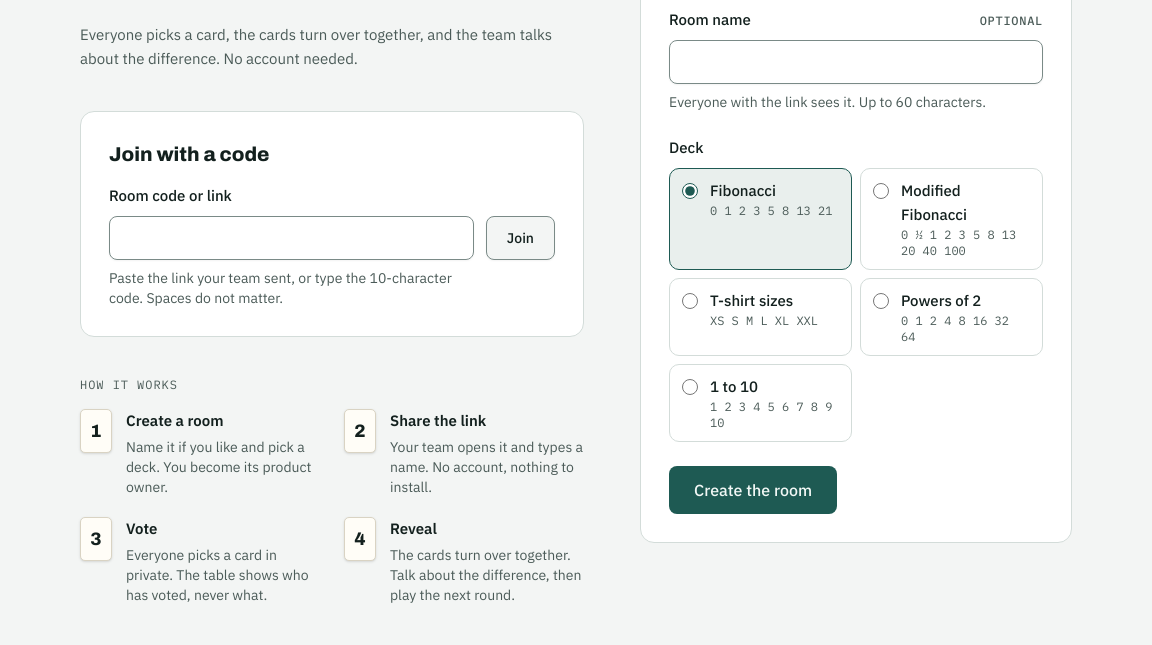
Test: app shell › explains a refused origin as a setup problem, not as a room setting
(page scrolled)
Step 1. Click the button "Create the room" → x=753, y=490, box 669,466 -> 837,514
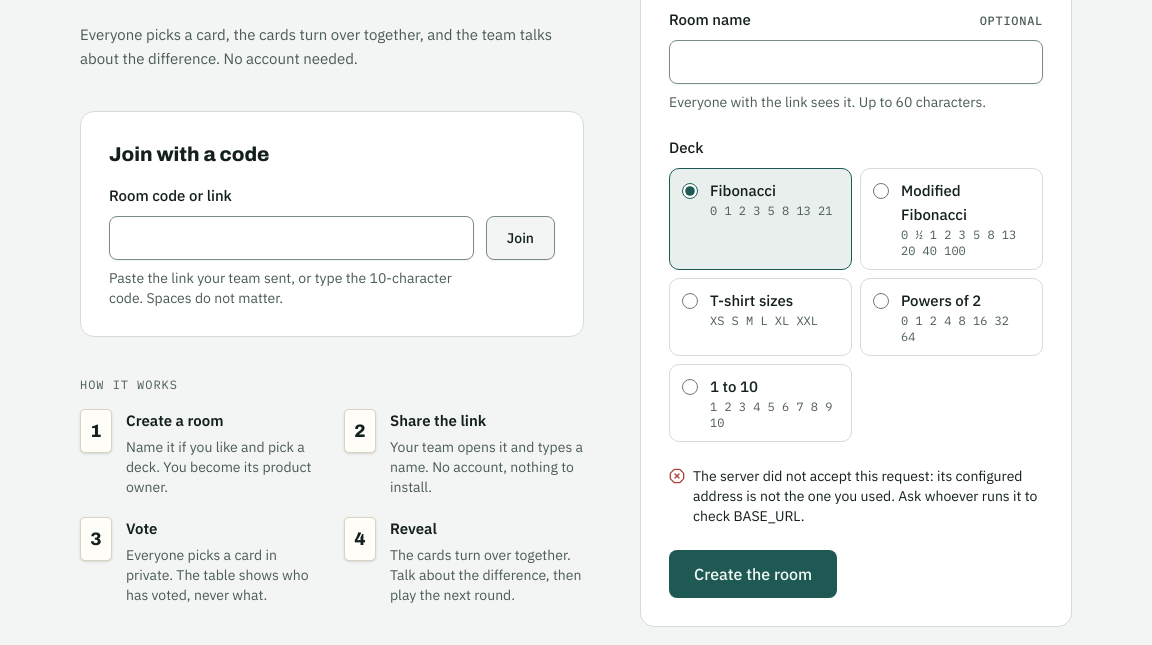
Result: the message shows "check BASE_URL" at 693,467 -> 1037,525
